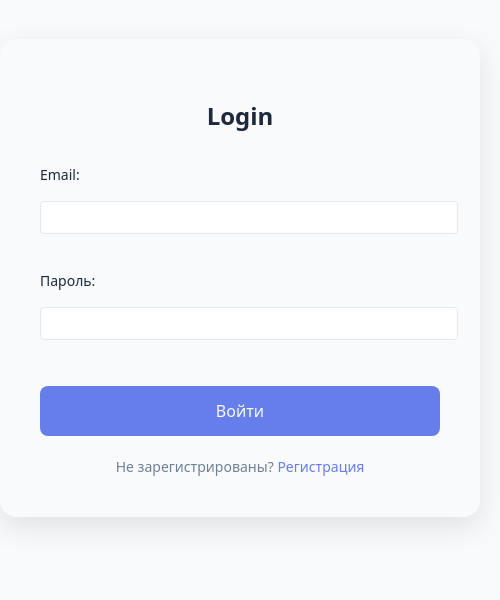
Test case: AuthForm › переключается на форму регистрации по клику на кнопку
The width and height of the screenshot is (500, 600).
Click the button "Регистрация": {"x": 321, "y": 467} [277,458,364,476]
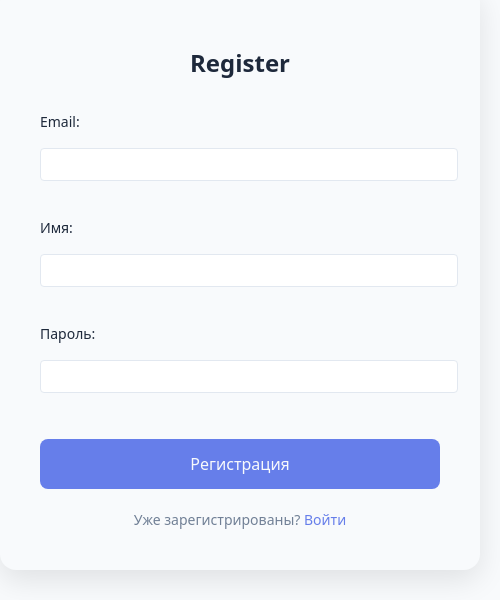
Check: the heading "Register" is shown, box [190,46,290,80]
